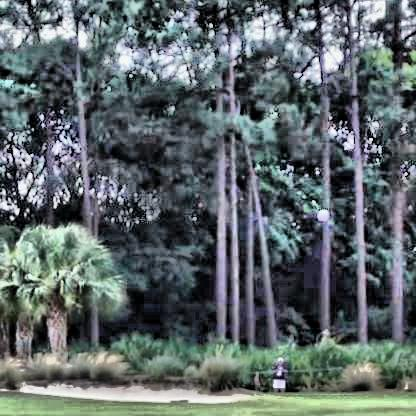golfball: (315, 207, 327, 220)
